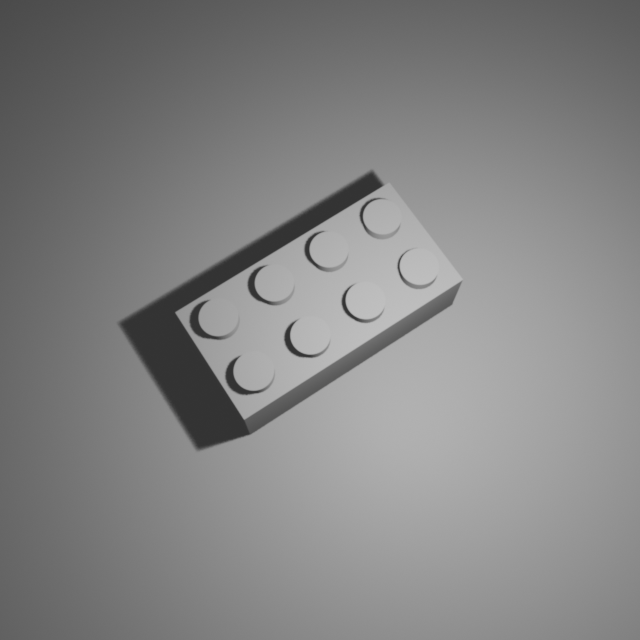lego_2x4: (173, 177, 465, 435)
